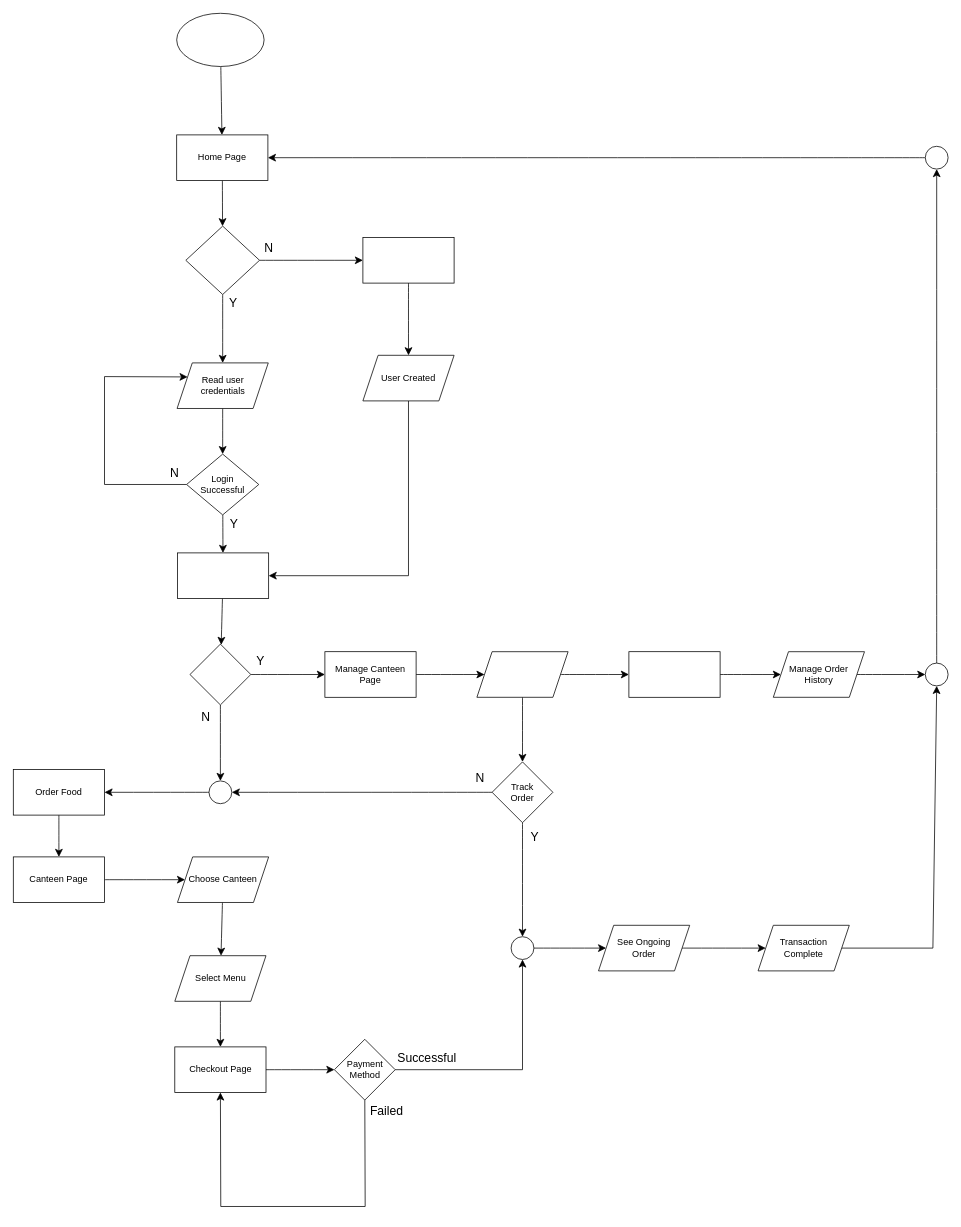
Some shapes in this 961 by 1227 pixel diagram are drawn without their labels. The box of each missing label's shape, as (x1, y1, x2, y2) in pixels:
Admin: (189, 643, 251, 705)
Have an Account: (185, 225, 260, 294)
Landing Page: (177, 552, 269, 598)
Manage Canteen: (476, 651, 568, 697)
Register: (362, 237, 454, 283)
See Ordered History: (628, 651, 720, 697)
Start: (176, 13, 264, 66)
